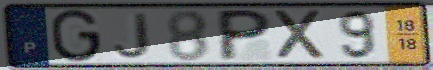8: (163, 8, 213, 63)
9: (334, 8, 379, 61)
G: (49, 7, 103, 64)
J: (112, 11, 153, 60)
P: (216, 8, 274, 63)
X: (271, 8, 329, 63)
